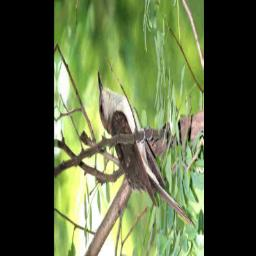Cuckoo: (96, 70, 197, 228)
